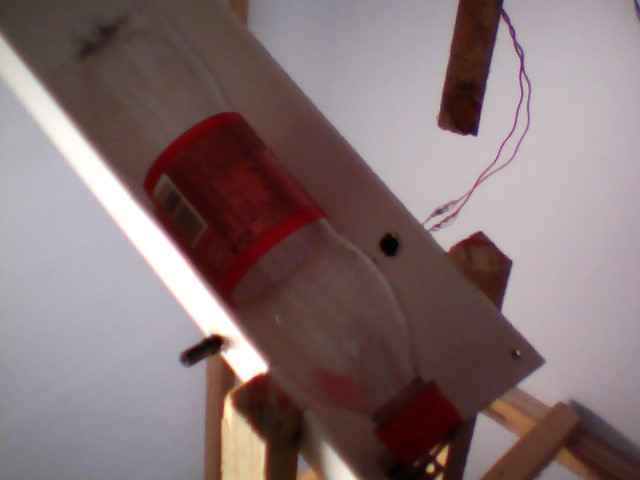plastico: (45, 2, 472, 474)
